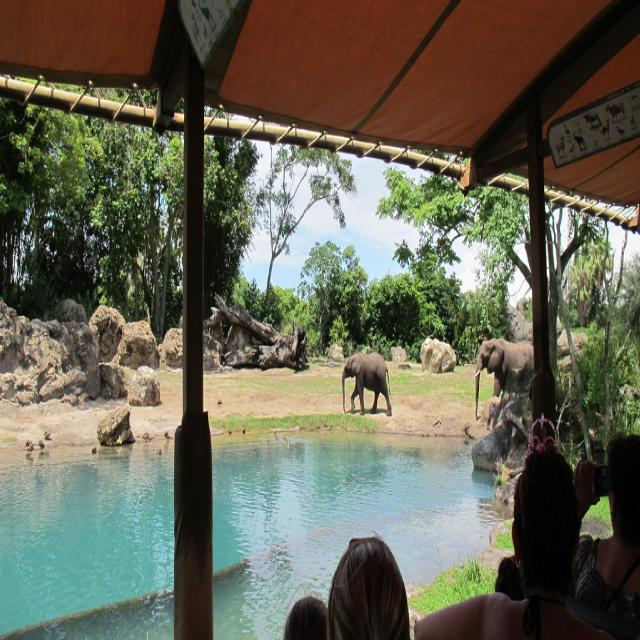Elephant: (473, 336, 534, 419), (341, 351, 392, 416)
person: (412, 445, 614, 639), (327, 534, 411, 639), (283, 594, 328, 639)
